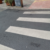zebra: (1, 11, 50, 50)
